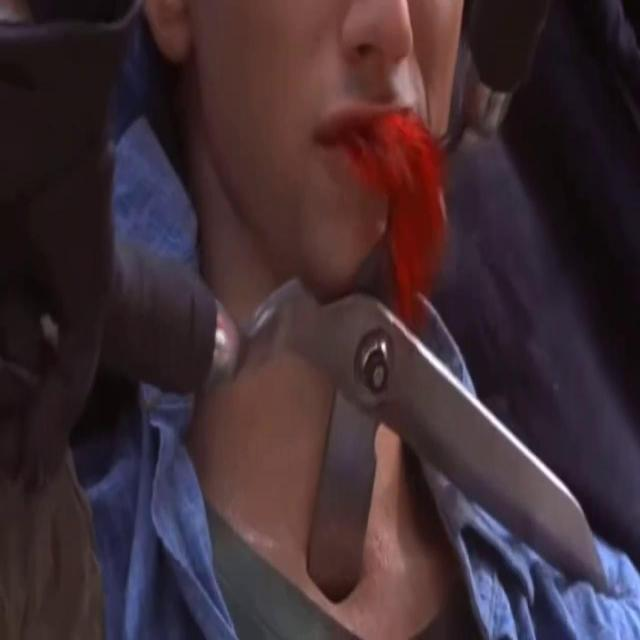flood: (378, 112, 448, 320)
